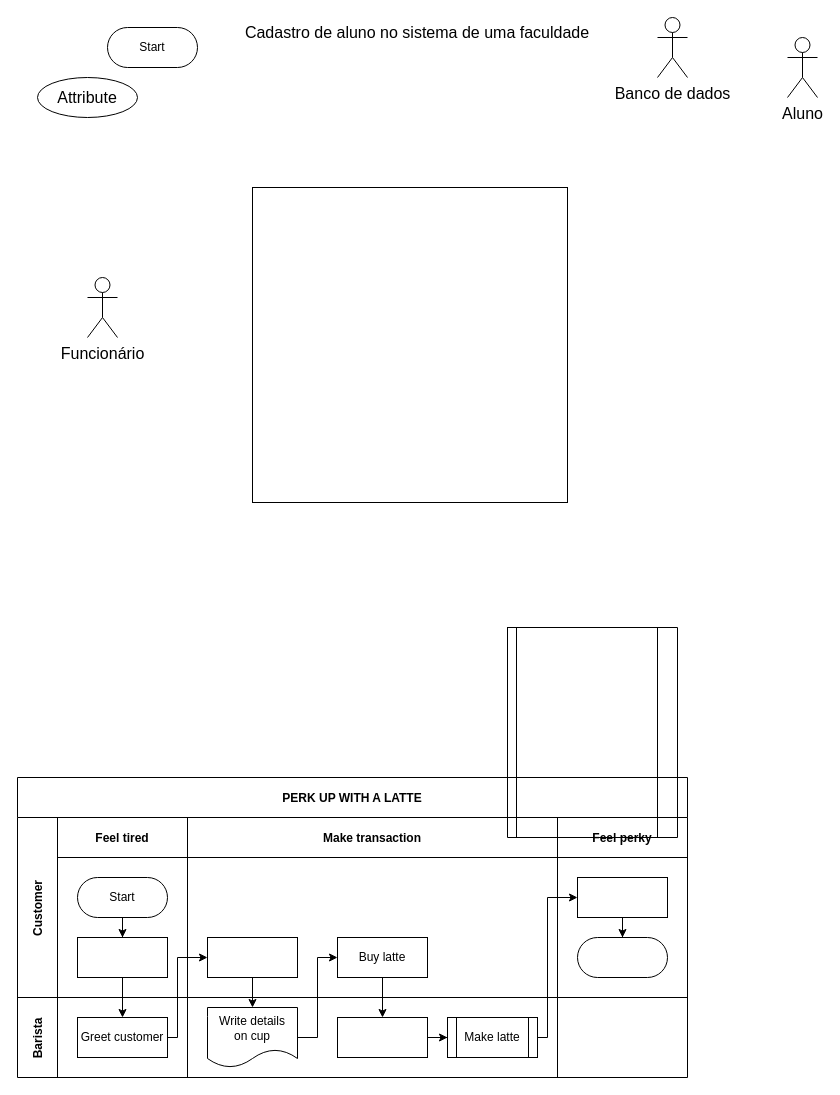
Some shapes in this 840 by 1095 pixel diagram are drawn without their labels. Each missing label, with the centre of its shape:
"Accept payment" goes at point 382,1037.
"Drink latte" goes at point 622,897.
"End" goes at point 622,957.
"Find barista" goes at point 122,957.
"Request latte" goes at point 252,957.
"Sistema de cadastro" goes at point 410,344.
